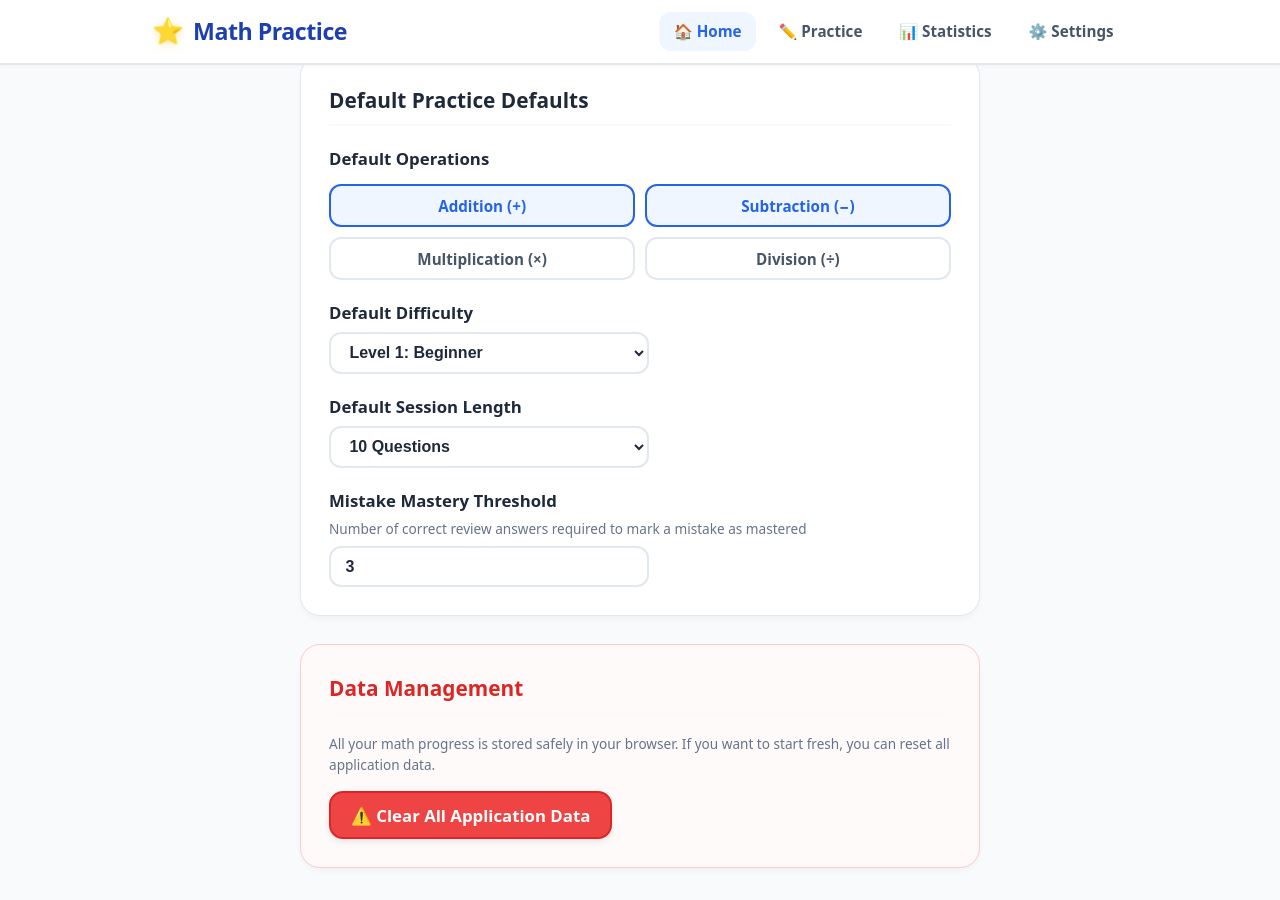
Test: SettingsPage › opens confirmation modal when Clear All Application Data is clicked
(page scrolled)
Click the button "⚠️ Clear All Application Data" at (471, 815), box [329,791,612,839]
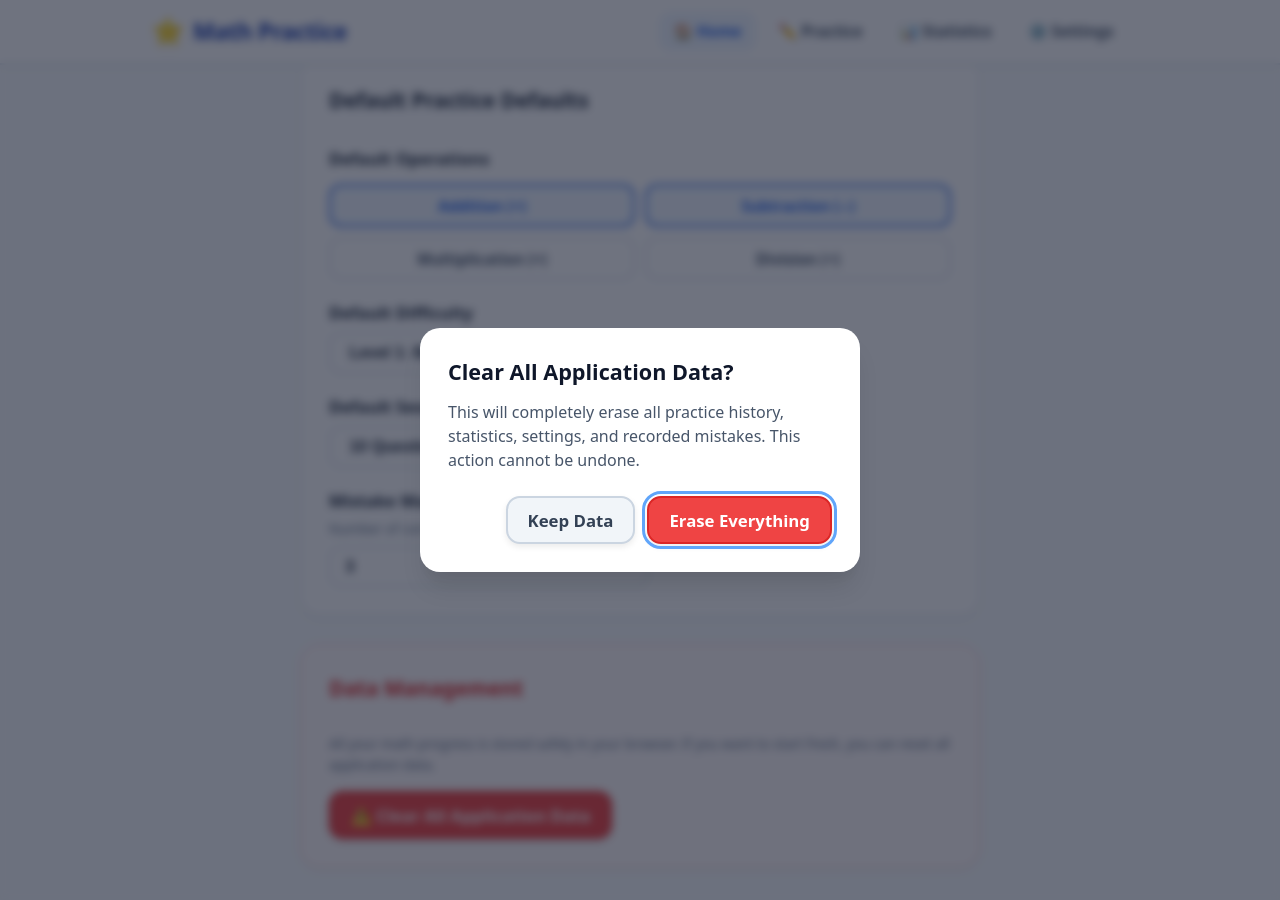
Expected: the text "This will completely erase all practice history" is shown, [448,401,800,471]
